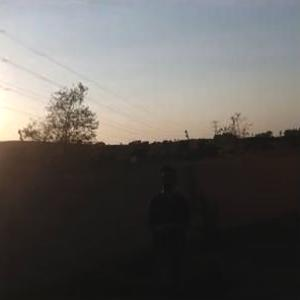follow: (139, 168, 193, 299)
